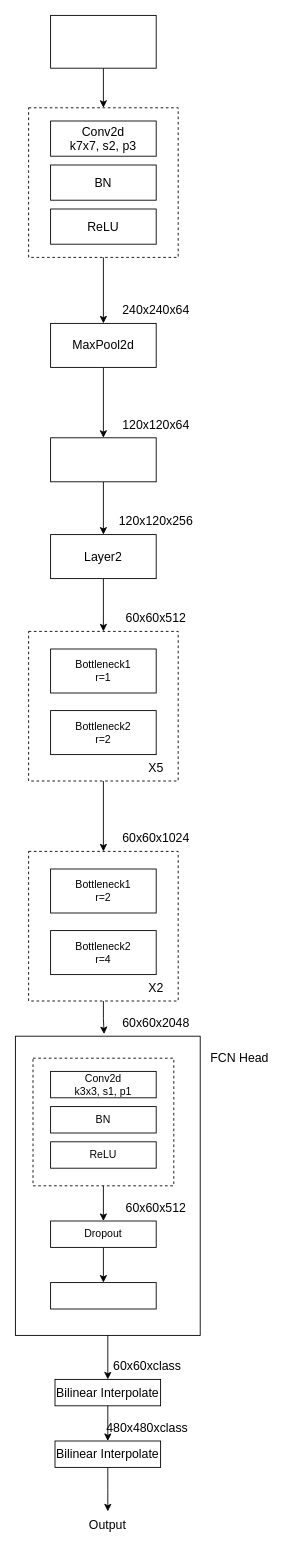
The diagram is 286 pixels wide and 1553 high, and some of its shapes have lost their labels. The centre of each missing label's shape, as x and y in pixels:
"Conv2d k1x1, s1" belongs at (x=103, y=1295).
"Image 480x480x3" belongs at (x=103, y=41).
"Layer1" belongs at (x=103, y=459).
